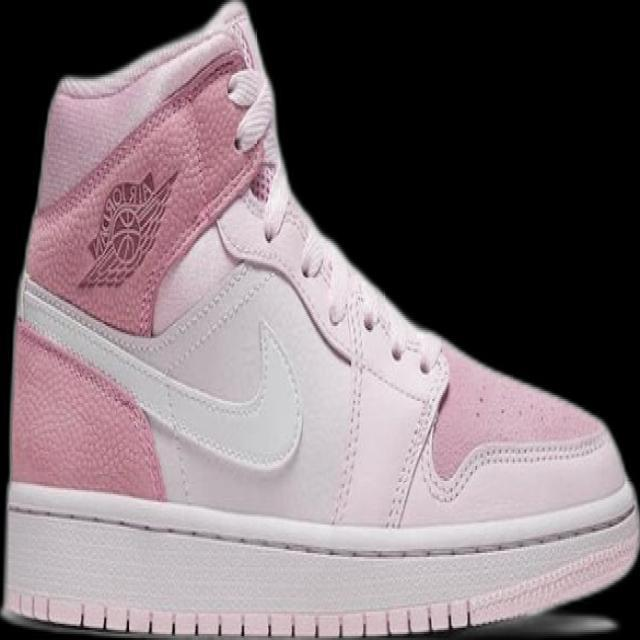J1_InsoleChar: (0, 0, 639, 639)
J1_ShoeLogo: (76, 167, 181, 289)
J1_StitchPattern: (1, 484, 638, 638), (216, 182, 448, 527), (16, 270, 304, 470), (4, 493, 638, 563), (6, 591, 474, 639), (423, 430, 611, 505), (381, 367, 450, 530), (326, 294, 369, 528)
